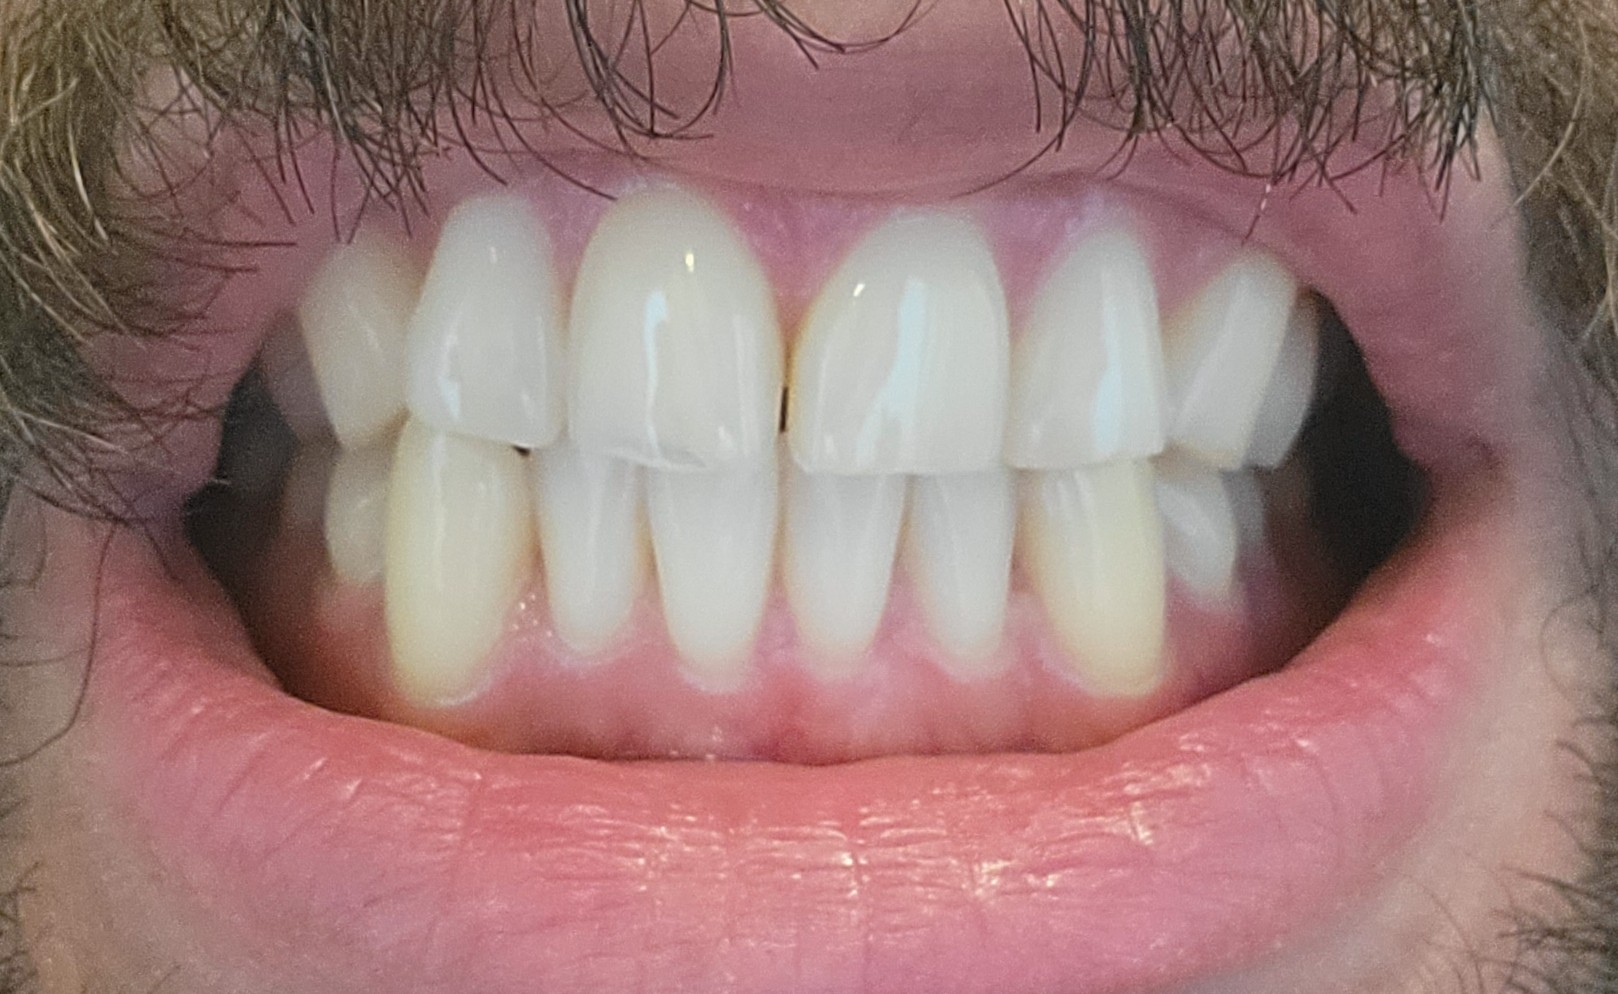teeth: (565, 177, 775, 470), (782, 210, 1007, 477), (383, 433, 533, 707), (401, 191, 558, 442), (1008, 239, 1168, 469), (652, 437, 775, 695), (1027, 468, 1173, 687), (1168, 253, 1299, 473), (297, 221, 414, 452), (535, 439, 650, 655), (785, 473, 906, 667), (905, 480, 1010, 667), (318, 420, 401, 586), (1157, 459, 1241, 599), (1259, 305, 1321, 474), (259, 327, 331, 444), (1231, 476, 1270, 565), (283, 452, 320, 522)
